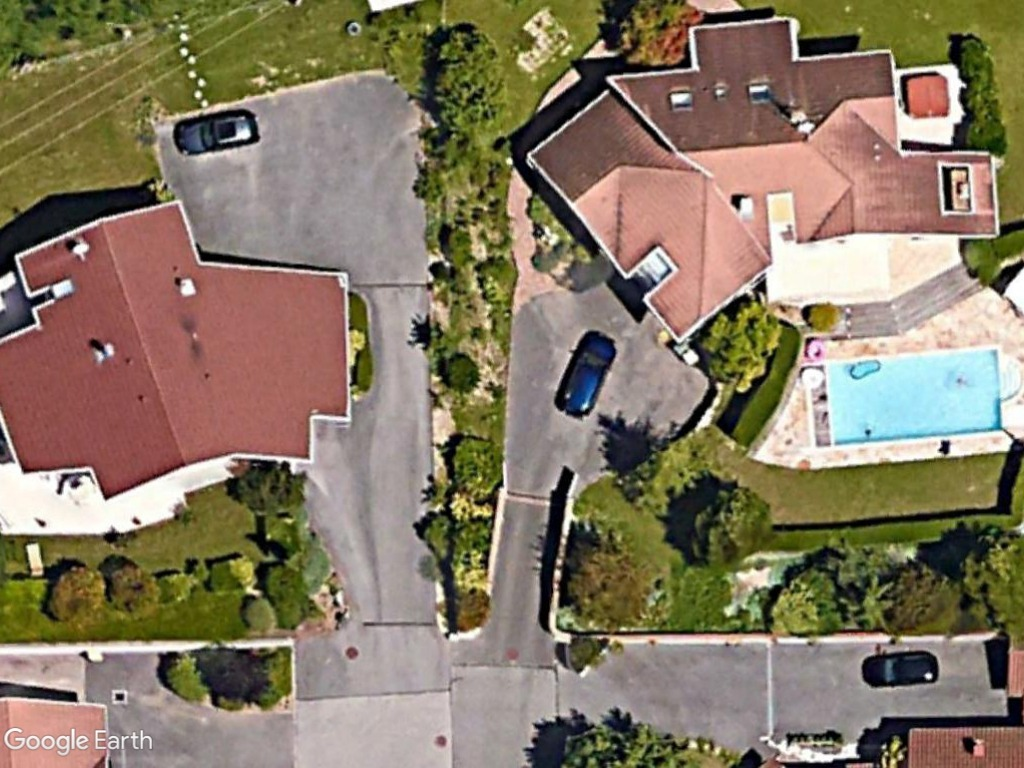car: (551, 329, 618, 419), (172, 107, 261, 159), (859, 651, 941, 689)
